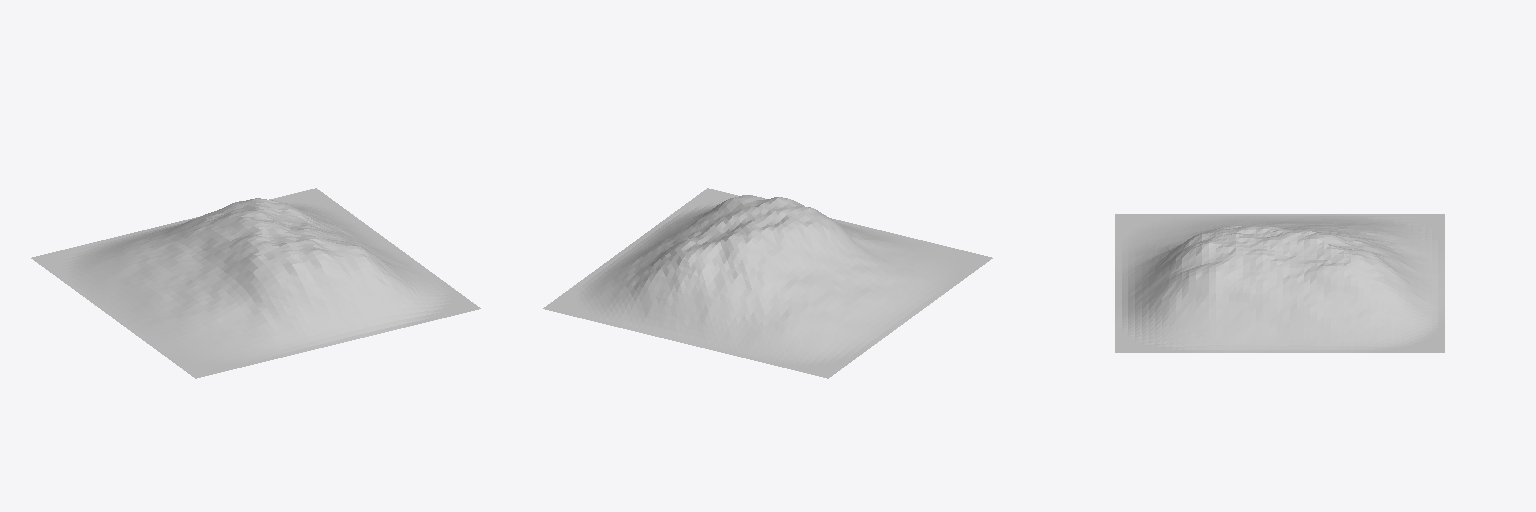
The model's file is mountain1.obj.
3 views of the same model, side by side, from view 1: azimuth 30°, elevation 25°; view 2: azimuth 150°, elevation 25°; view 3: azimuth 270°, elevation 25° (orthographic).
Parts seen in each view (by area): view 1: Landscape; view 2: Landscape; view 3: Landscape.
Part boxes in pixels (x1,y1,x2,y2): Landscape: (31,188,480,378); Landscape: (543,188,992,378); Landscape: (1115,214,1444,352).
Bounding box in the file's own units: 2 × 0.3659 × 2.